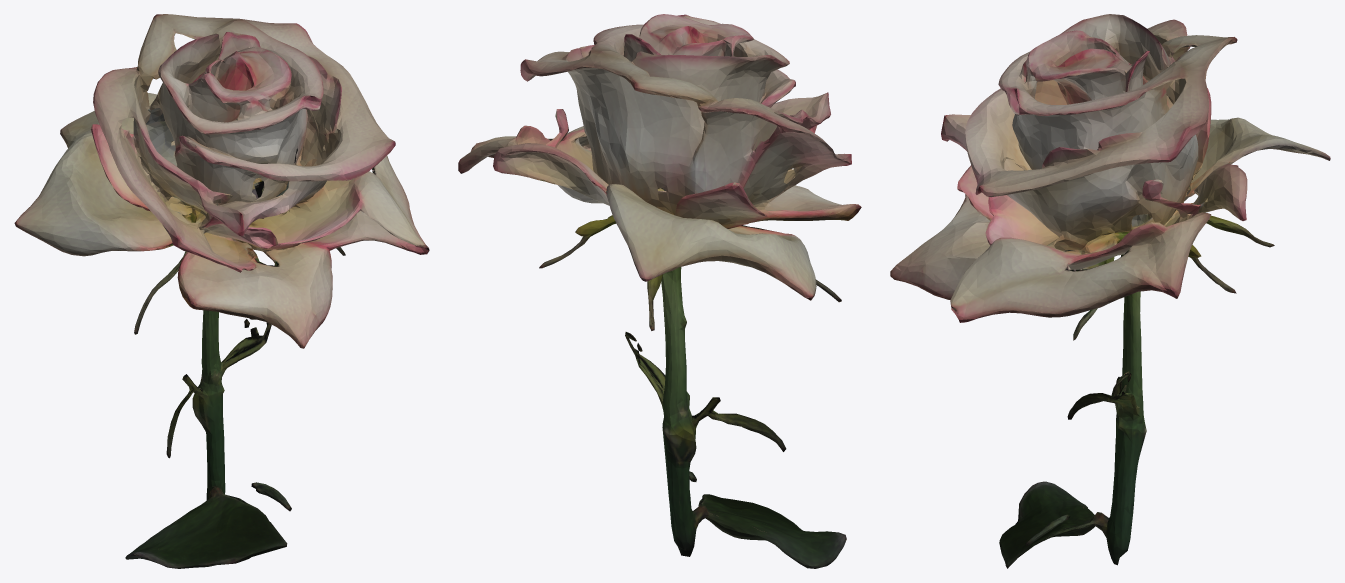
3 views of the same model, side by side, from view 1: azimuth 30°, elevation 25°; view 2: azimuth 150°, elevation 25°; view 3: azimuth 270°, elevation 25° (orthographic). The views are drawn at different scales.
Parts seen in each view (by area): view 1: world; view 2: world; view 3: world.
Part boxes in pixels (bbox=[...]): world: bbox=[14, 14, 429, 568]; world: bbox=[458, 14, 861, 568]; world: bbox=[890, 14, 1330, 568].
Bounding box in the file's own units: 0.709 × 0.9484 × 0.7186.
1 material, 1 textured.
